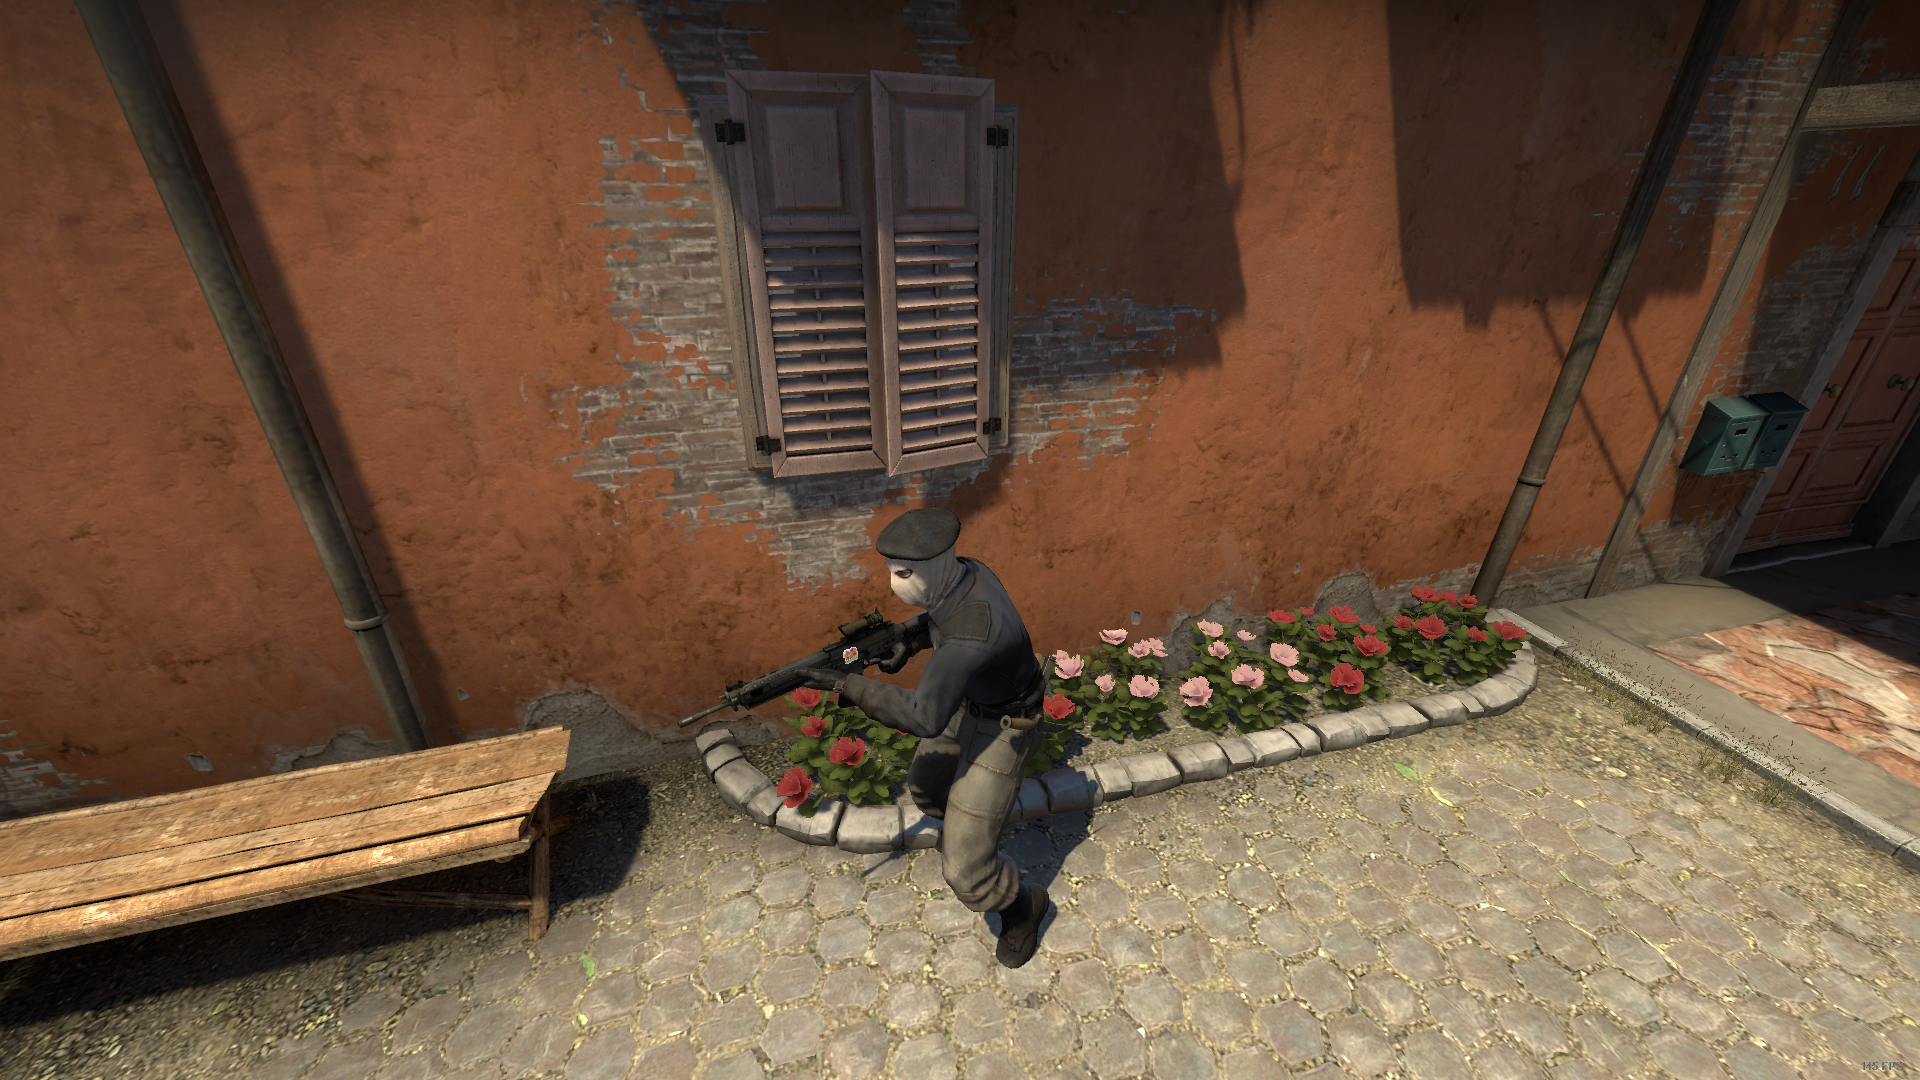t: (795, 500, 1096, 967)
